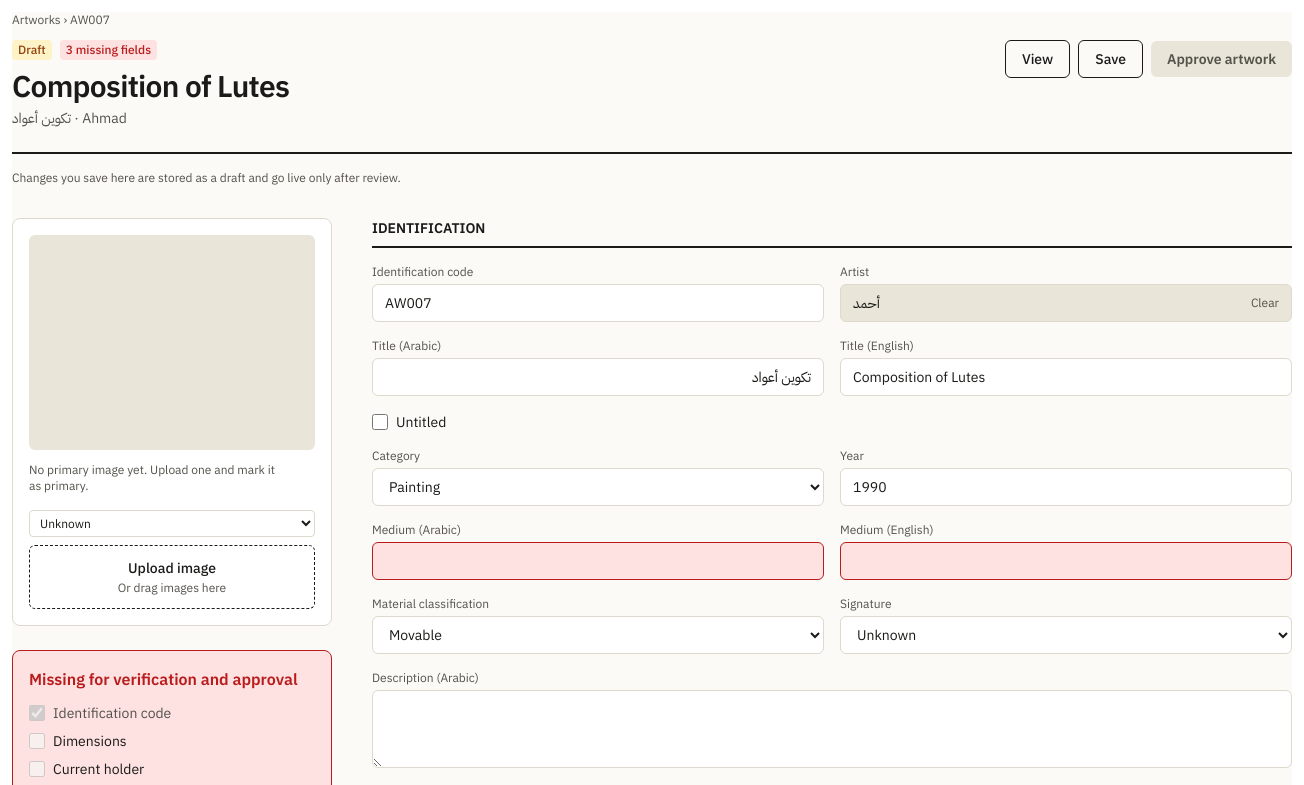
Scenario: ArtworkCurationPage › draft mode (proposals.submit) › sends the draft for review and flips the banner to awaiting review
Step 1. Click the button with test id "save-button" → [1111, 59], box 1078,40 -> 1143,78
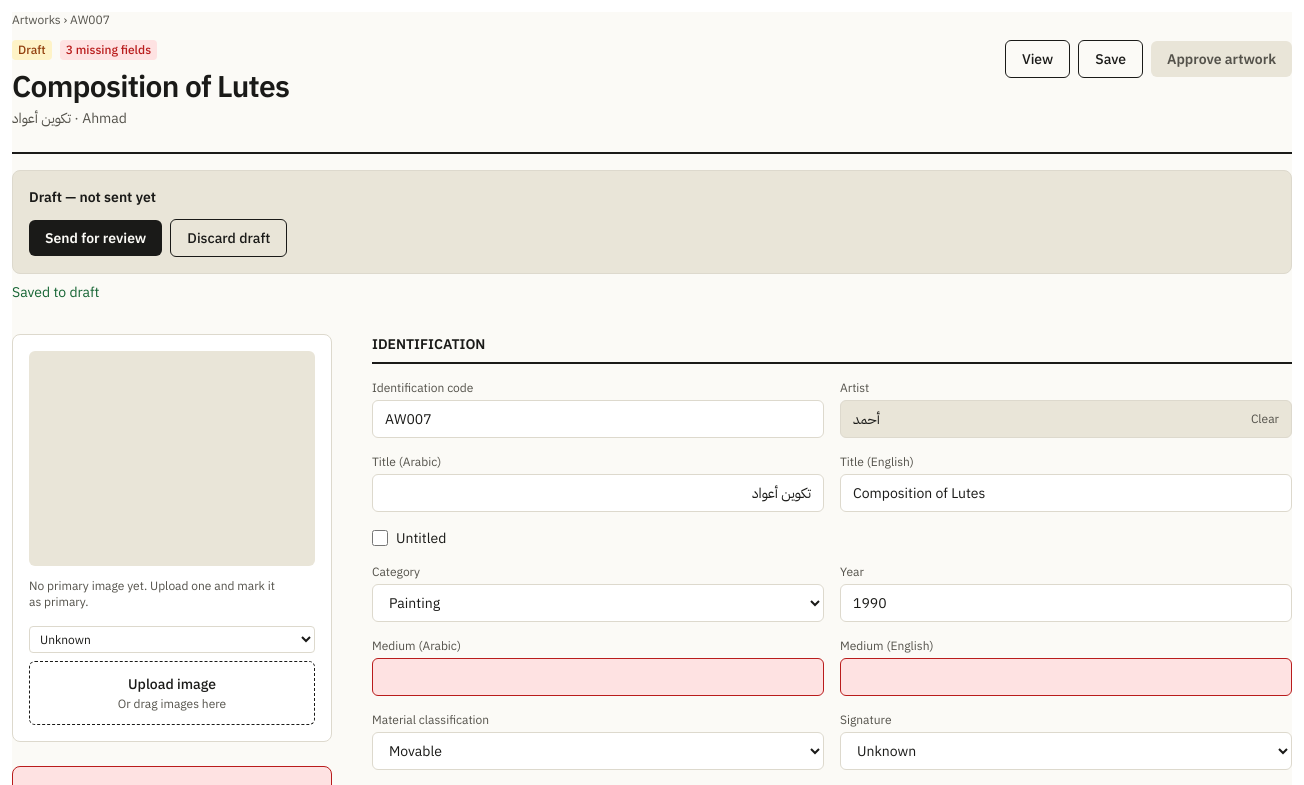
Step 2. Click the button with test id "send-for-review" → [96, 238], box 29,220 -> 162,256
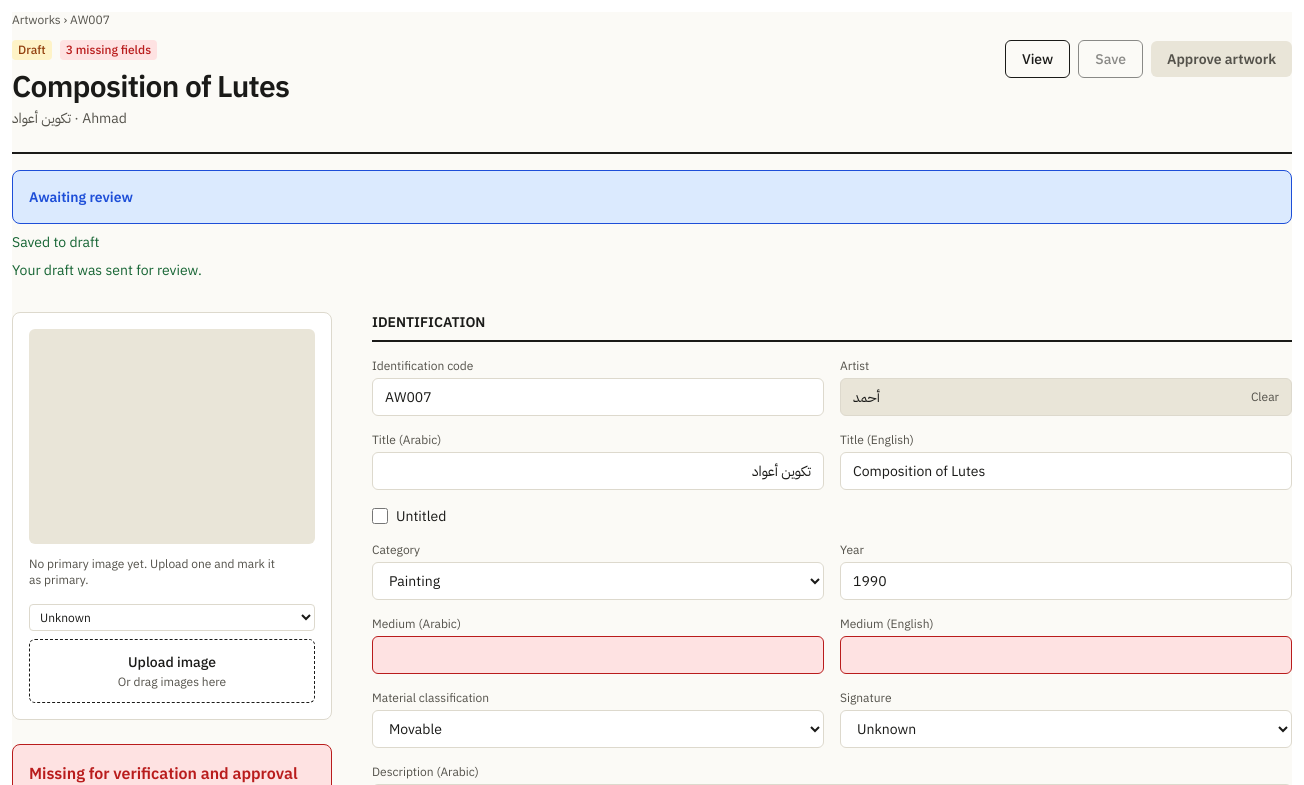
Result: the text with test id "draft-notice" reads "Your draft was sent for review." at 12,261 -> 202,279
